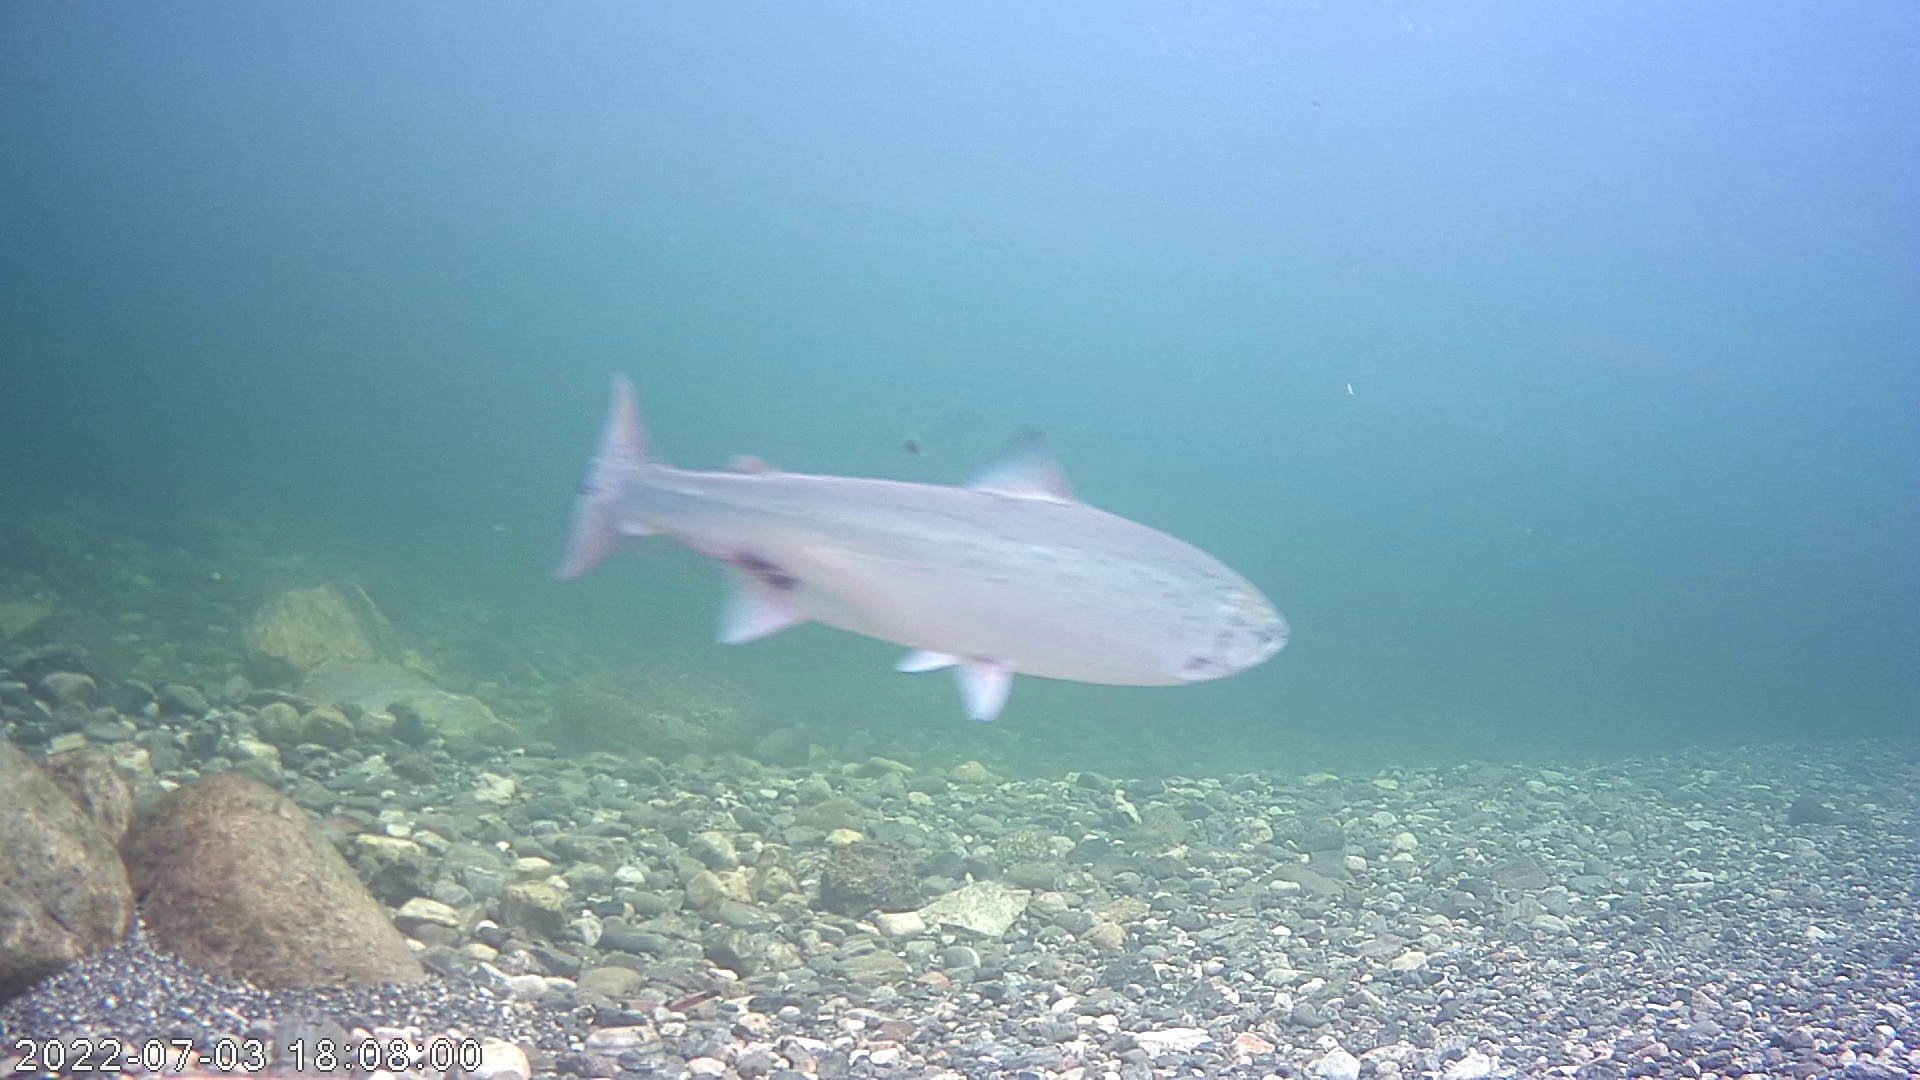salmon: (553, 365, 1294, 725)
